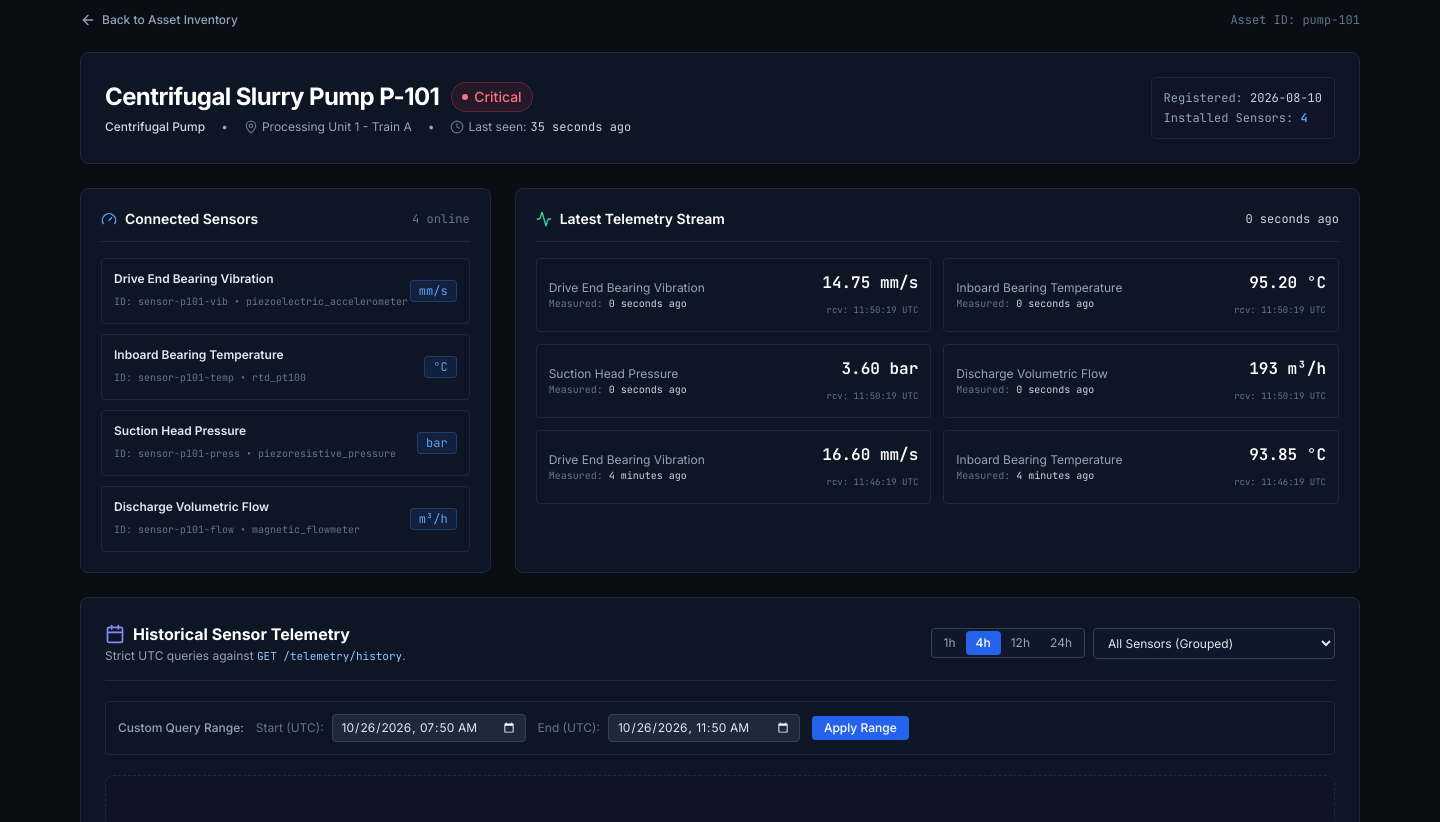
Test case: keeps history query stable across renders and validates empty custom dates without crashing
Clear the field named "Start (UTC)". click: x=429, y=728
box: [332,714,526,742]
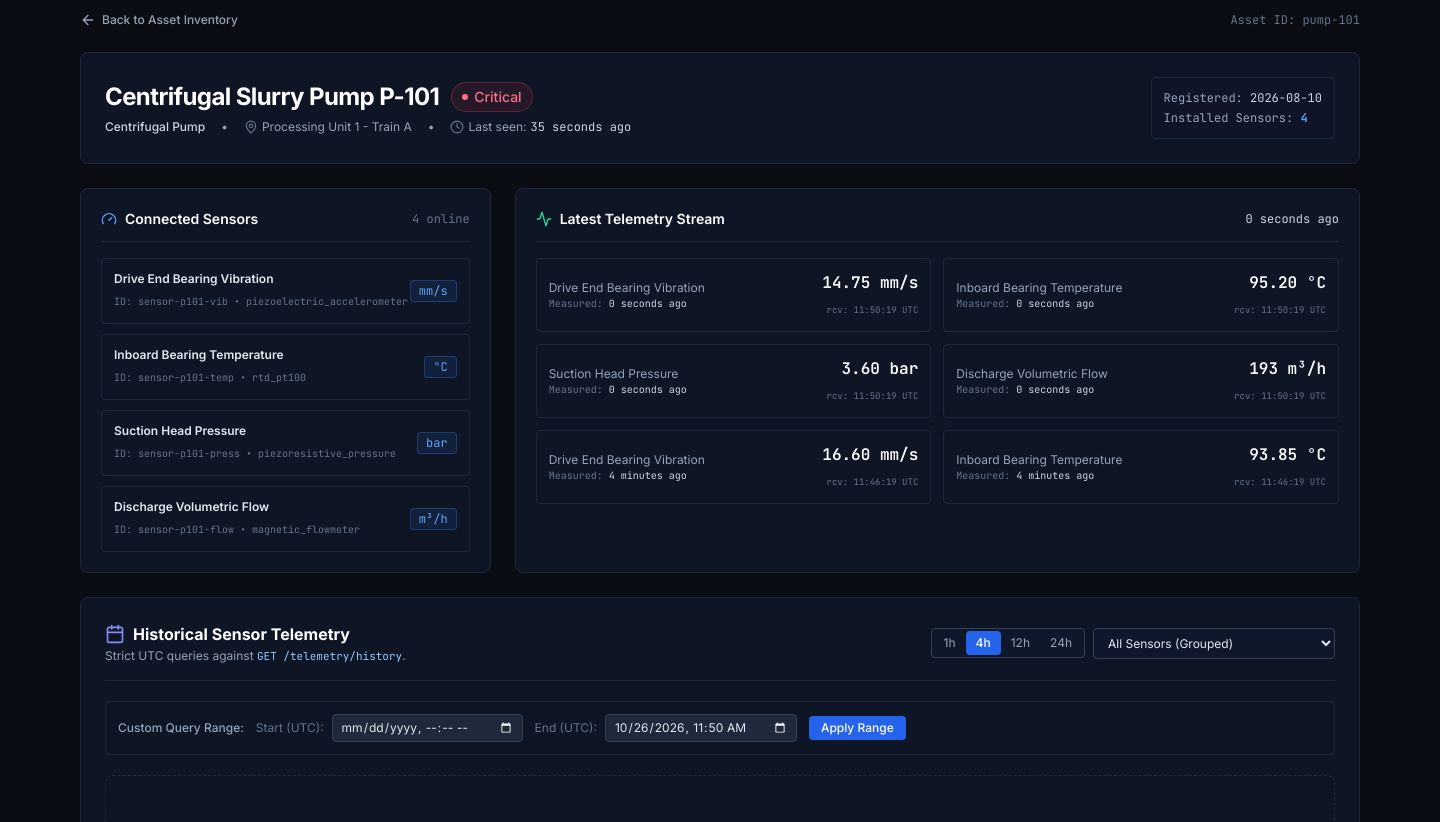
Click the button "Apply Range". click: x=857, y=728
box: [809,716,906,740]
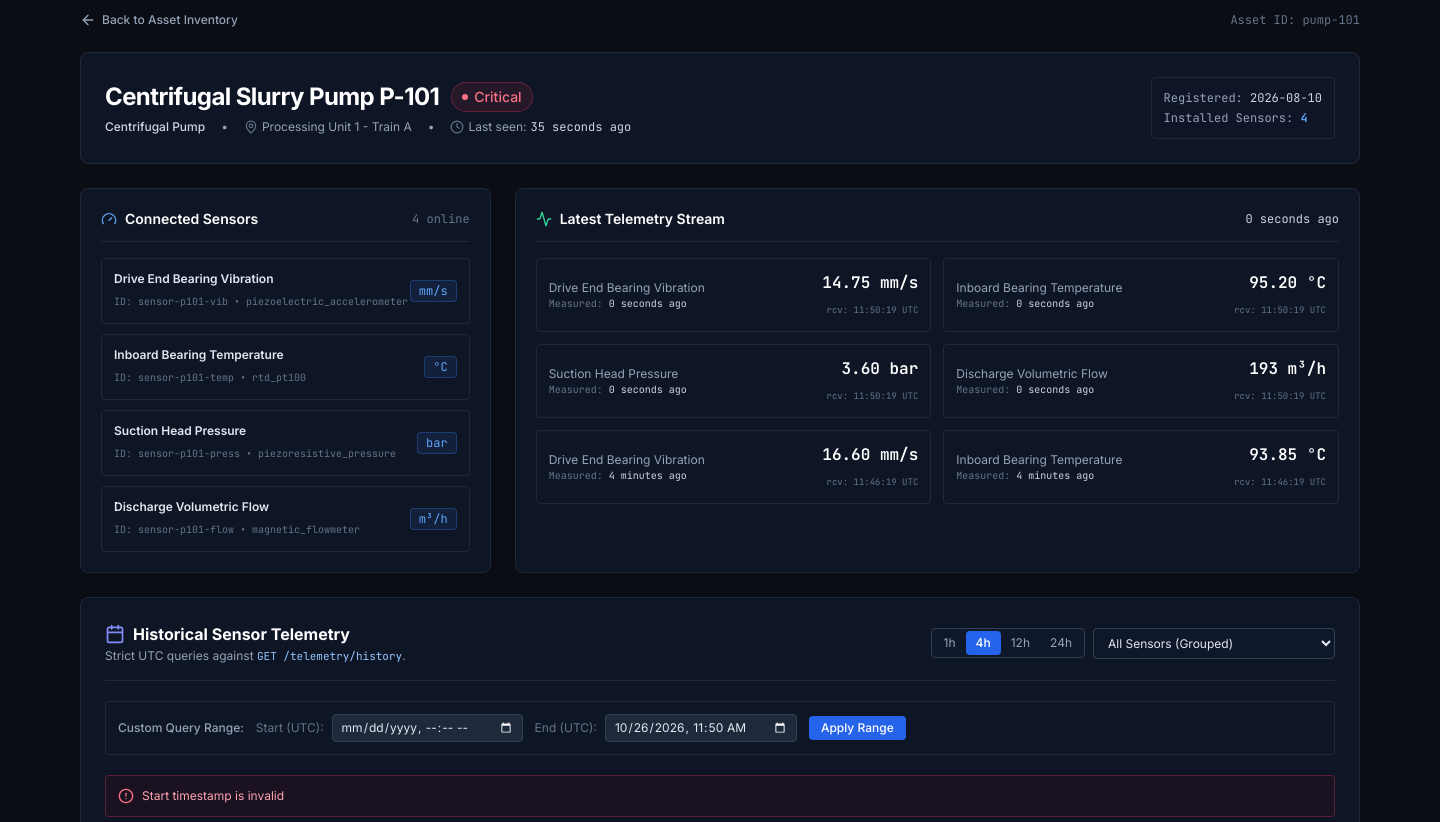
expect the text "Start timestamp is invalid" is shown: met, box [142,788,284,804]
